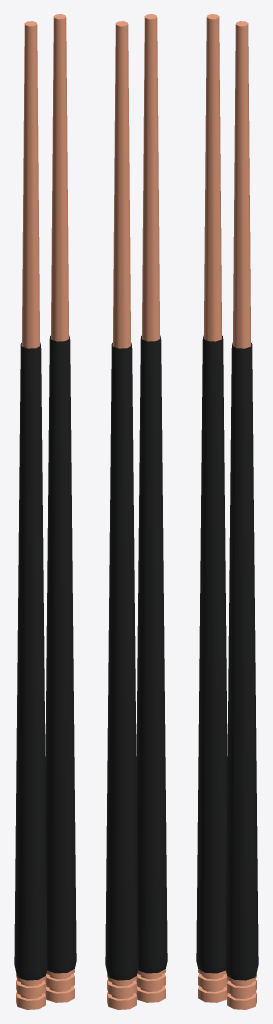
File: chopsticks_003.glb
The picture shows the model from 3 angles, left to right: view 1: azimuth 30°, elevation 25°; view 2: azimuth 210°, elevation 25°; view 3: azimuth 330°, elevation 25°; orthographic projection.
Parts seen in each view (by area): view 1: chopsticks.003; view 2: chopsticks.003; view 3: chopsticks.003.
Boxes of the visible parts, left/top/right/bottom form: chopsticks.003: left=14, top=14, right=76, bottom=1009; chopsticks.003: left=105, top=14, right=167, bottom=1009; chopsticks.003: left=196, top=14, right=258, bottom=1009.
Bounding box in the file's own units: 0.3458 × 5.51 × 0.1749.
1 material, 1 textured.
